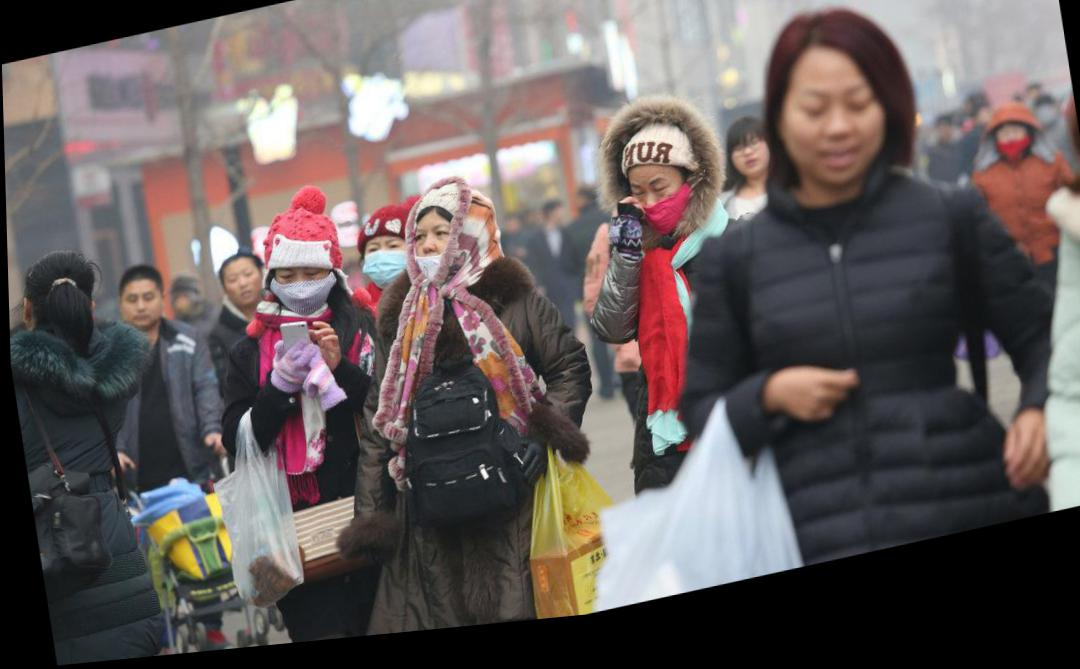NONE: (785, 93, 886, 208), (119, 289, 163, 335), (221, 269, 265, 313), (731, 152, 769, 194)
OK: (272, 258, 333, 323), (354, 237, 415, 300)
WRONG: (624, 172, 701, 250), (403, 224, 471, 297), (991, 145, 1027, 183)
